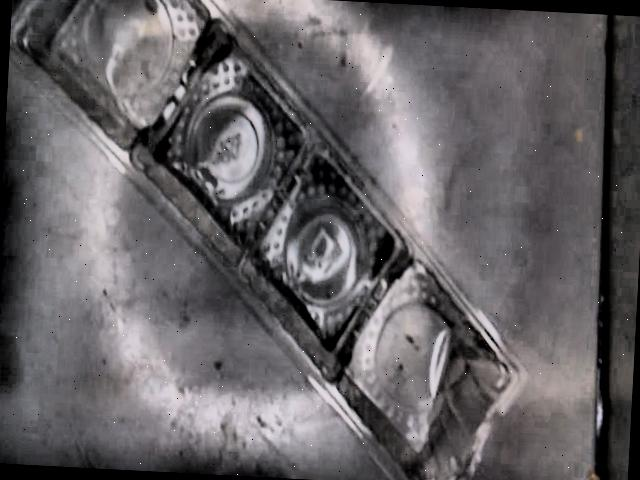Plastic: (9, 0, 516, 480)
